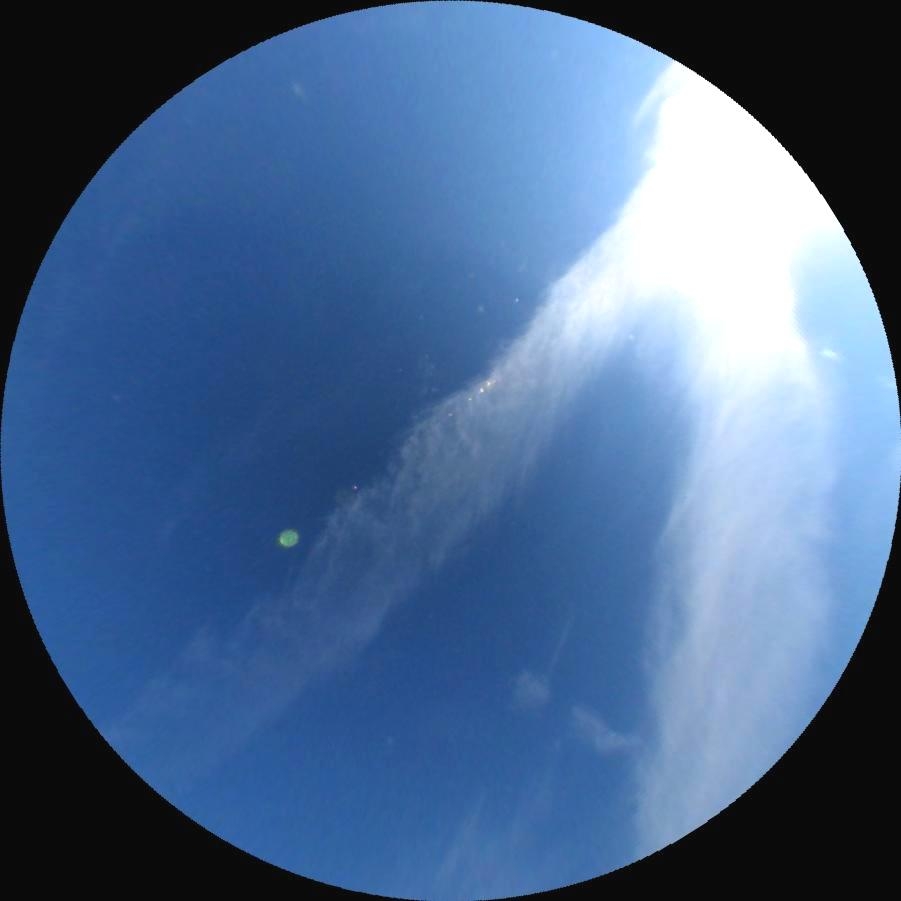contrail old: (666, 280, 839, 361)
contrail veryold: (94, 152, 753, 820), (509, 669, 644, 769)
unknow: (540, 617, 571, 685)
